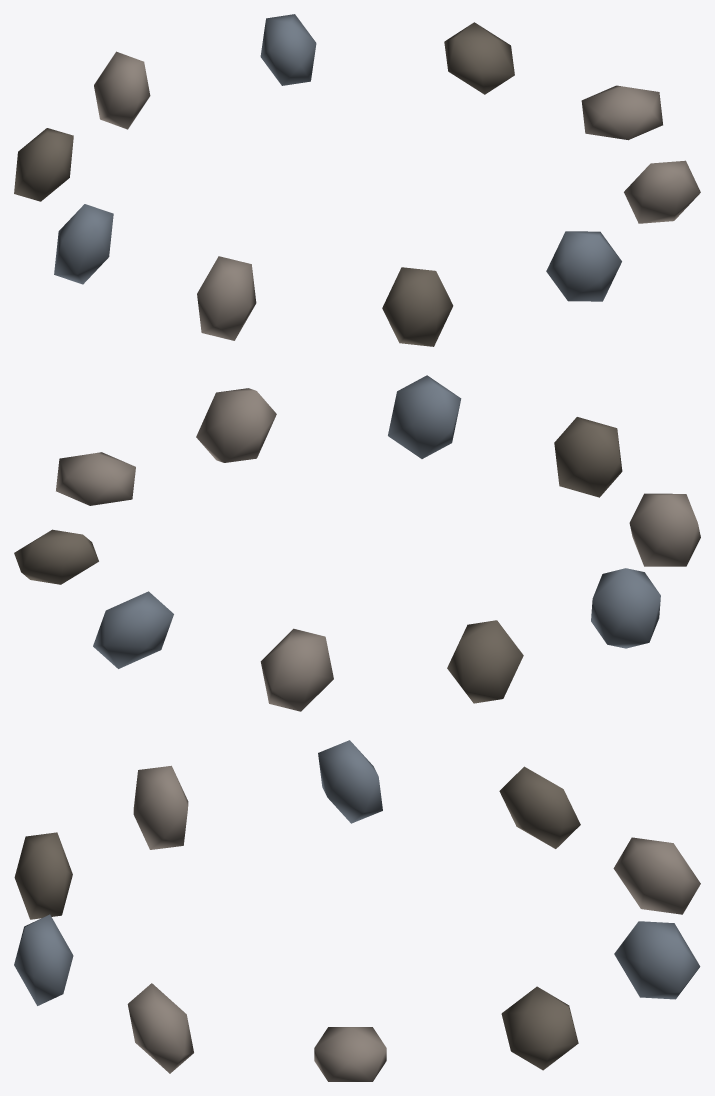
File: campfire_addon_2.glb
3 renders of one model, top to bottom at view 1: azimuth 30°, elevation 25°; view 2: azimuth 150°, elevation 25°; view 3: azimuth 270°, elevation 25°, orthographic. The views are drawn at different scales.
Parts seen in each view (by area): view 1: cf2_st7, cf2_st8, cf2_st6, cf2_st0, cf2_st1, cf2_st9, cf2_st5, cf2_st4, cf2_st3, cf2_st2; view 2: cf2_st5, cf2_st3, cf2_st4, cf2_st9, cf2_st6, cf2_st8, cf2_st7, cf2_st2, cf2_st0, cf2_st1; view 3: cf2_st2, cf2_st3, cf2_st1, cf2_st4, cf2_st7, cf2_st9, cf2_st6, cf2_st5, cf2_st8, cf2_st0.
Boxes of the visible parts, x1,y1,x2,y2 form: cf2_st7: [382, 267, 453, 346]; cf2_st8: [546, 231, 621, 301]; cf2_st6: [197, 256, 256, 340]; cf2_st0: [581, 85, 662, 140]; cf2_st1: [444, 22, 514, 94]; cf2_st9: [624, 160, 700, 223]; cf2_st5: [54, 204, 113, 284]; cf2_st4: [14, 128, 73, 201]; cf2_st3: [94, 51, 150, 129]; cf2_st2: [260, 14, 316, 85]; cf2_st5: [591, 568, 660, 648]; cf2_st3: [260, 628, 333, 711]; cf2_st4: [447, 620, 523, 703]; cf2_st9: [196, 388, 276, 462]; cf2_st6: [629, 493, 700, 566]; cf2_st8: [388, 375, 461, 458]; cf2_st7: [554, 417, 622, 497]; cf2_st2: [93, 591, 173, 668]; cf2_st0: [56, 452, 135, 505]; cf2_st1: [14, 529, 98, 584]; cf2_st2: [614, 921, 700, 999]; cf2_st3: [613, 837, 700, 914]; cf2_st1: [501, 986, 578, 1070]; cf2_st4: [499, 766, 580, 848]; cf2_st7: [14, 832, 72, 919]; cf2_st9: [127, 983, 193, 1073]; cf2_st6: [133, 765, 188, 849]; cf2_st5: [318, 740, 382, 823]; cf2_st8: [14, 914, 73, 1005]; cf2_st0: [314, 1027, 386, 1081].
Bounding box in the file's own units: 2.24 × 0.2878 × 2.13.
